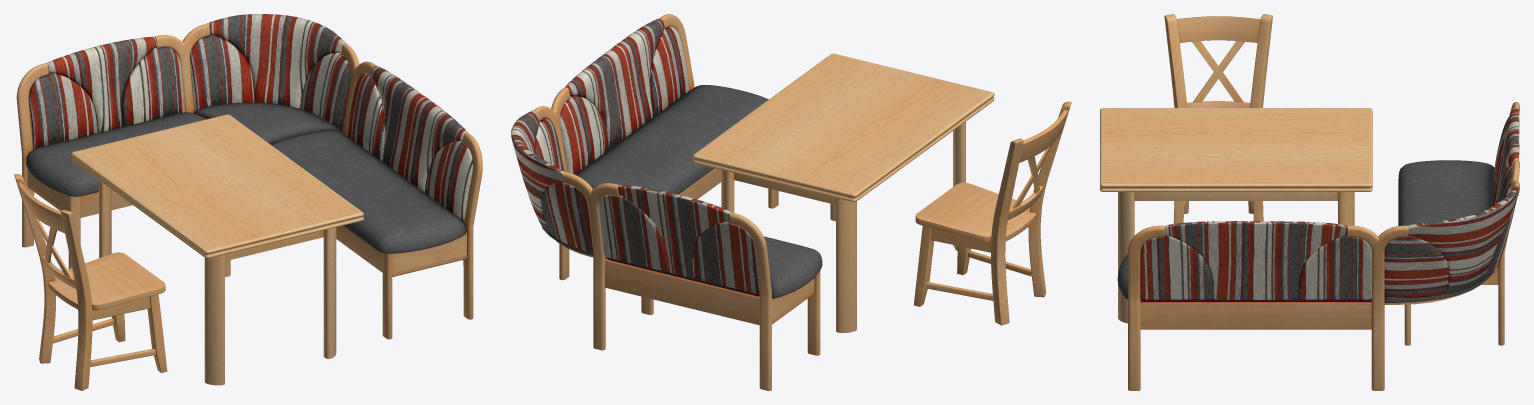
File: kiras.FBX
The picture shows the model from 3 angles, left to right: view 1: azimuth 30°, elevation 25°; view 2: azimuth 150°, elevation 25°; view 3: azimuth 270°, elevation 25°; orthographic projection. The views are drawn at different scales.
Parts seen in each view (by area): view 1: fabrick, table, seat, chair_bench; view 2: fabrick, table, chair_bench, seat; view 3: fabrick, table, chair_bench, seat.
Boxes of the visible parts, box(x1,y1,x2,y2) form: fabrick: box(26, 14, 472, 253); table: box(71, 114, 363, 385); seat: box(14, 174, 167, 390); chair_bench: box(16, 24, 482, 339); fabrick: box(511, 18, 822, 298); table: box(693, 53, 994, 332); chair_bench: box(534, 14, 820, 390); seat: box(914, 101, 1071, 325); fabrick: box(1117, 107, 1519, 302); table: box(1100, 108, 1372, 323); chair_bench: box(1128, 102, 1519, 390); seat: box(1164, 14, 1272, 223).
Bounding box in the file's own units: 2199 × 958 × 1954.
3 materials, 3 textured.
